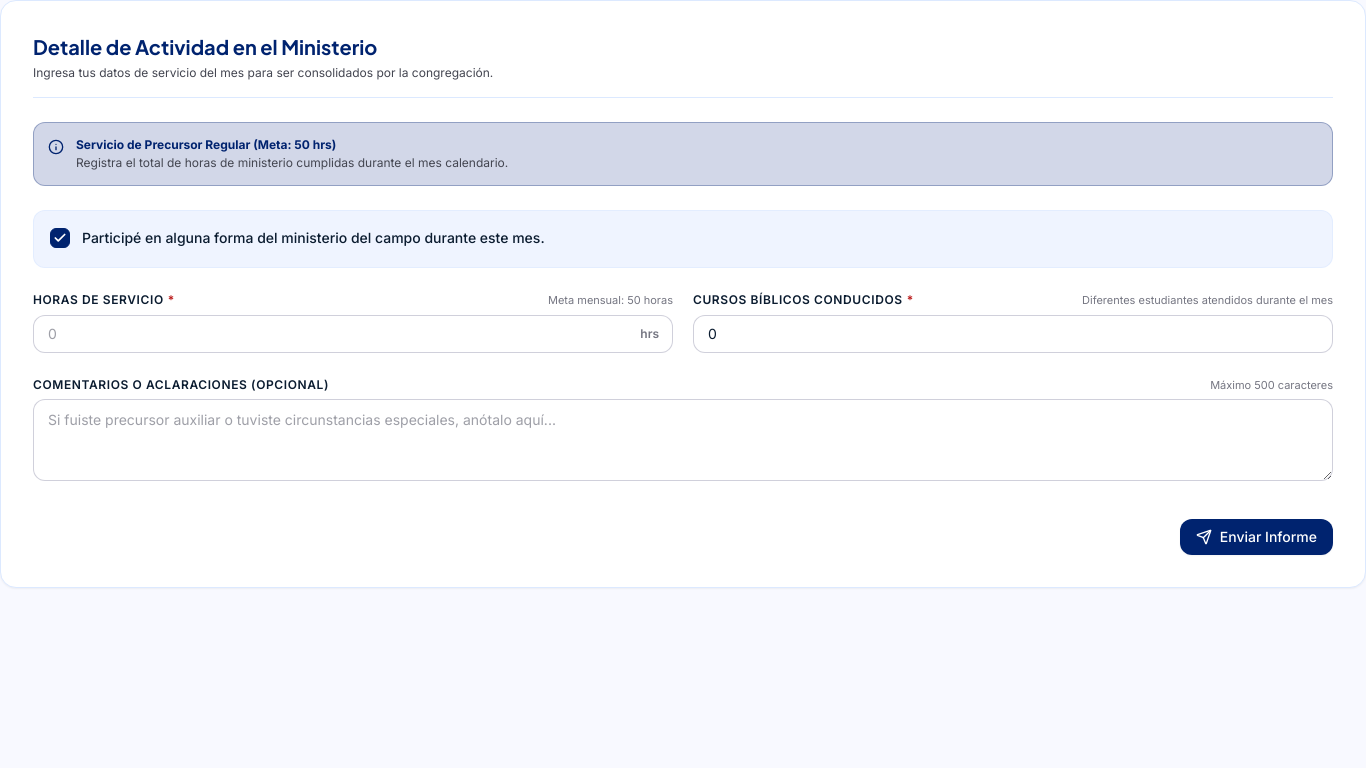
Test: ReportSubmissionForm organism › para precursores regulares sí muestra campo de horas y valida horas inválidas
The width and height of the screenshot is (1366, 768).
Type "-10" into the number field labelled "Horas de Servicio*" at {"x": 353, "y": 334}, box [33,314,673,352]
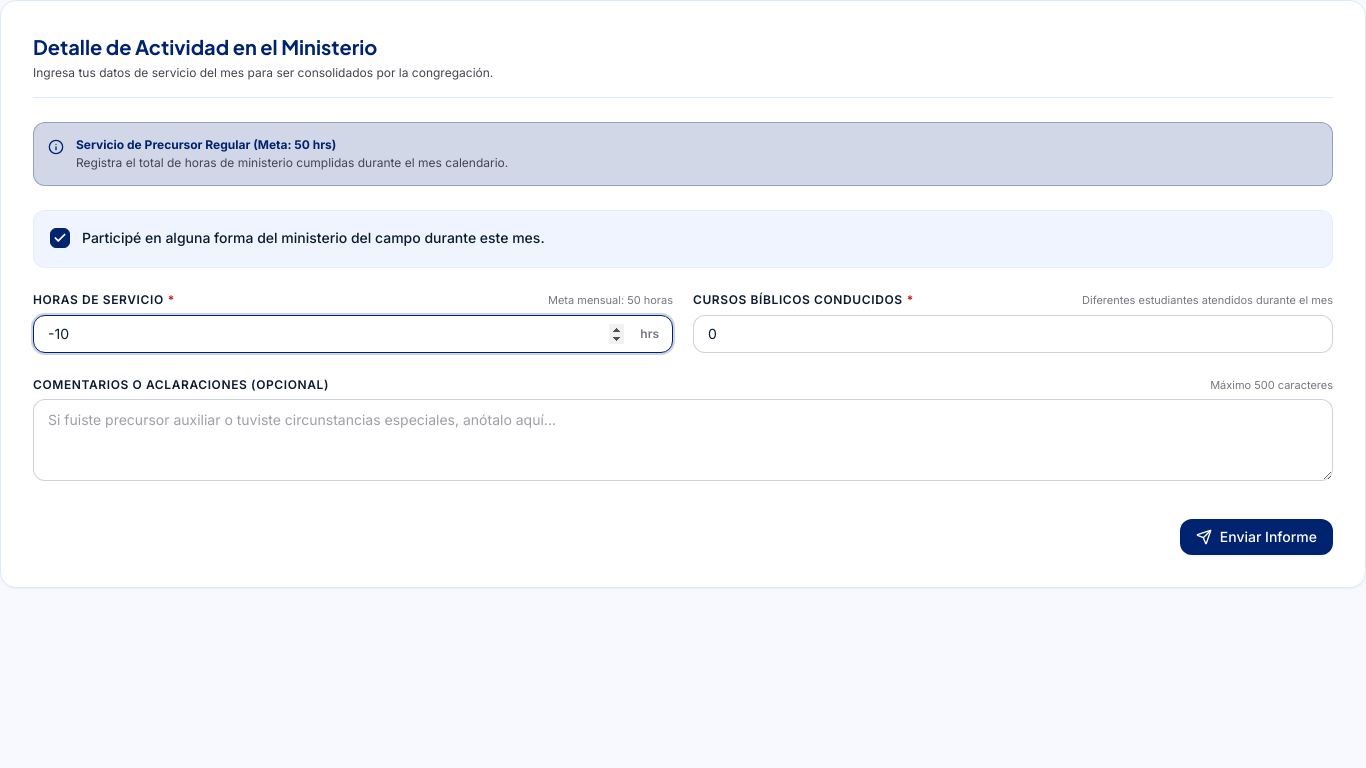
Click the button "Enviar Informe" at {"x": 1256, "y": 537}, box [1180,519,1333,555]
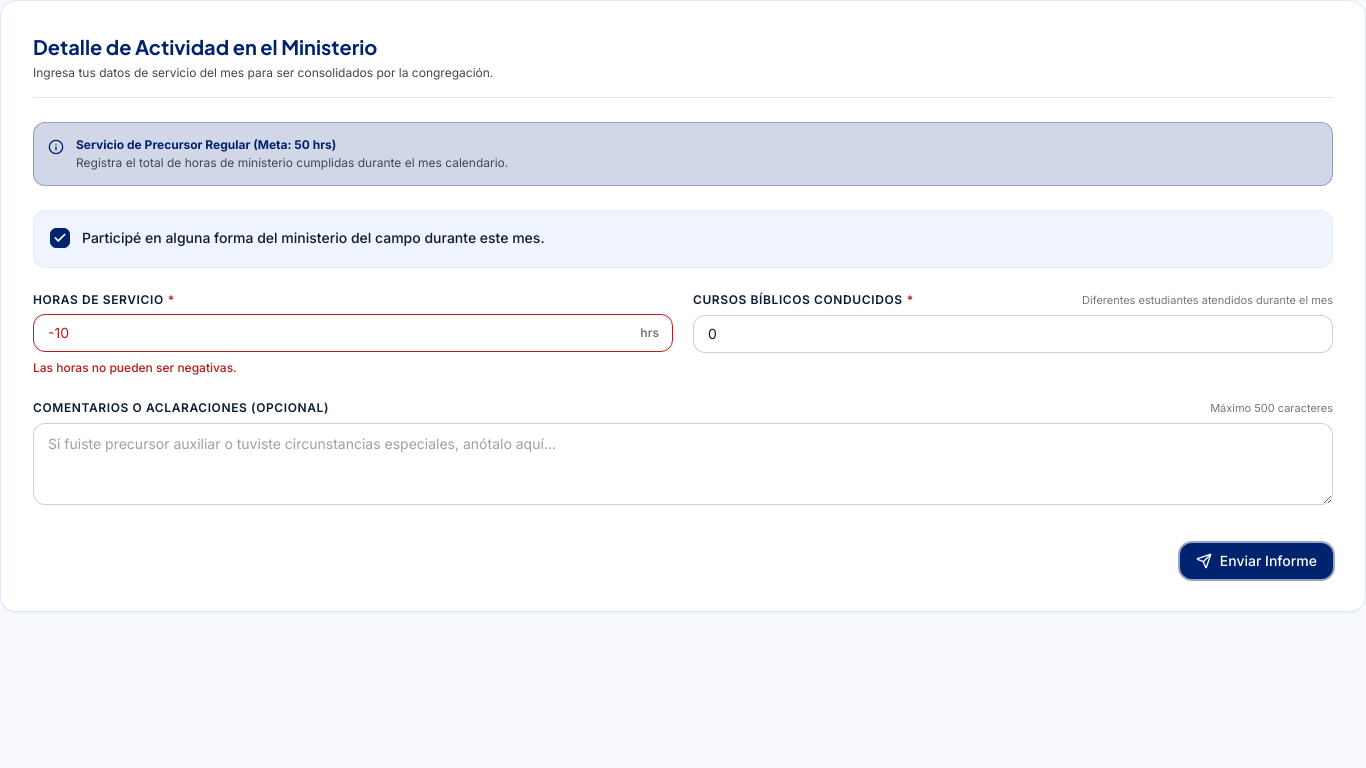
Check: the text "Las horas no pueden ser negativas." is shown, box [33,360,237,375]
